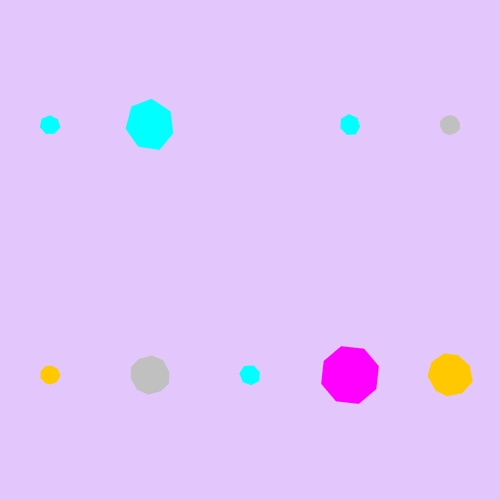decagon: (126, 353, 175, 398), (435, 111, 465, 139)
heptagon: (122, 98, 179, 153), (36, 111, 65, 139), (336, 111, 365, 139), (236, 361, 265, 389)
nonagon: (424, 350, 476, 400), (36, 361, 65, 389)
octagon: (317, 342, 384, 409)
